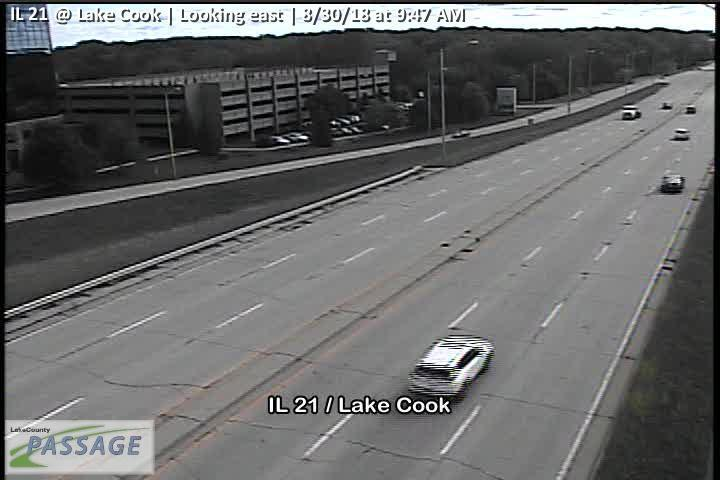SUV: (407, 332, 494, 400)
Sedan: (660, 174, 685, 192)
